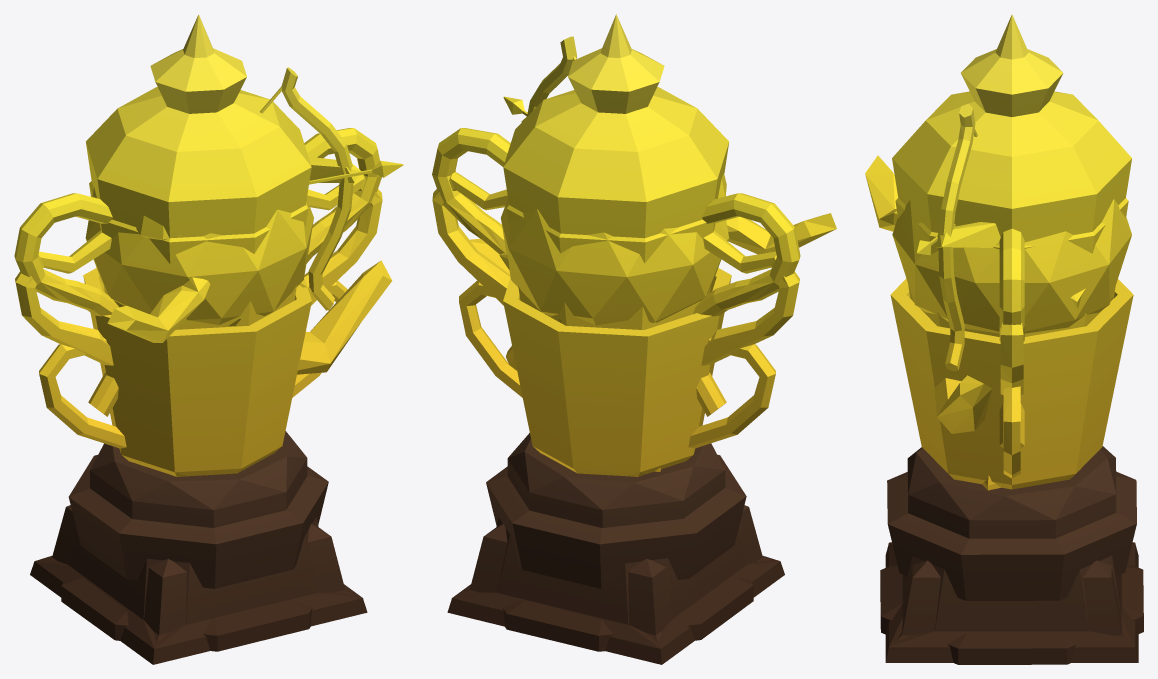
Rendered from TrophySet.fbx.
The picture shows the model from 3 angles, left to right: view 1: azimuth 30°, elevation 25°; view 2: azimuth 150°, elevation 25°; view 3: azimuth 270°, elevation 25°; orthographic projection. The views are drawn at different scales.
Visible parts, largest first — view 1: Trophy.009, Trophy.005, Trophy.007, Trophy.008, Trophy.003, Trophy.004; view 2: Trophy.009, Trophy.005, Trophy.007, Trophy.008, Trophy.003, Trophy.004; view 3: Trophy.009, Trophy.005, Trophy.007, Trophy.003, Trophy.008, Trophy.004.
Boxes of the visible parts, <box> form: Trophy.009: <box>14,14,381,652</box>; Trophy.005: <box>61,67,403,651</box>; Trophy.007: <box>39,268,347,476</box>; Trophy.008: <box>15,174,382,664</box>; Trophy.003: <box>85,187,313,325</box>; Trophy.004: <box>107,215,392,626</box>; Trophy.009: <box>432,14,800,652</box>; Trophy.005: <box>486,36,753,651</box>; Trophy.007: <box>459,268,775,476</box>; Trophy.008: <box>432,172,799,664</box>; Trophy.003: <box>501,199,729,325</box>; Trophy.004: <box>470,174,836,273</box>; Trophy.009: <box>888,14,1135,649</box>; Trophy.005: <box>880,103,1143,664</box>; Trophy.007: <box>890,278,1133,489</box>; Trophy.003: <box>892,199,1131,333</box>; Trophy.008: <box>885,198,1138,662</box>; Trophy.004: <box>865,155,1085,619</box>.
Size of the model in its own units: 5.96 by 9.02 by 3.83.
